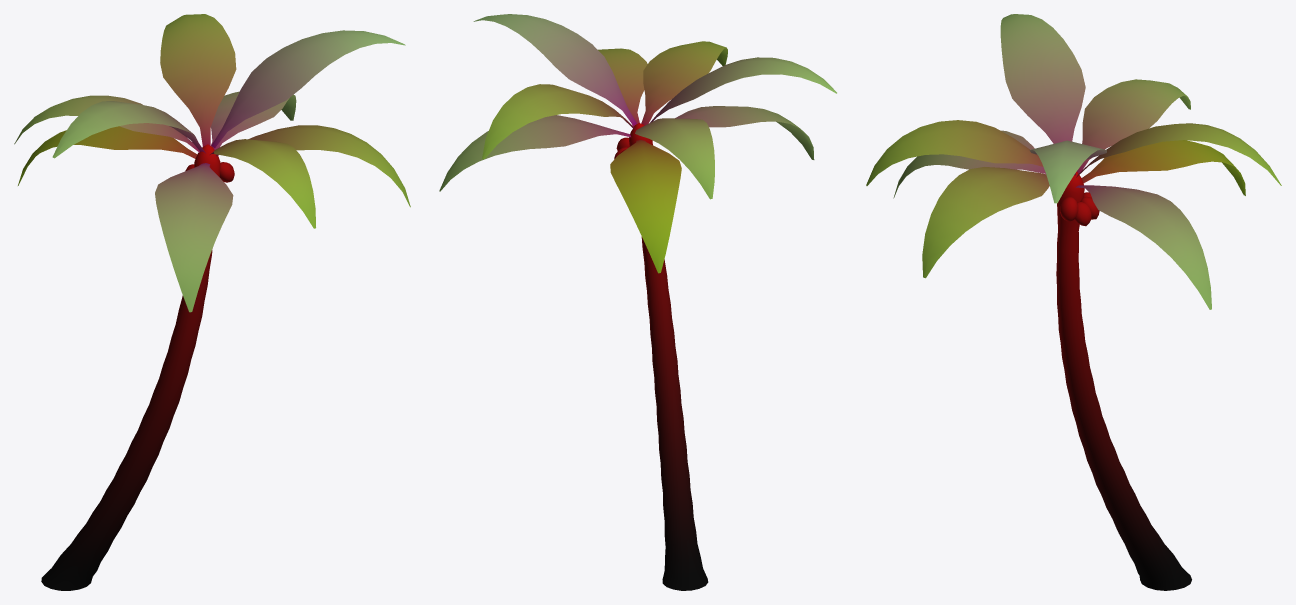
File: SM_Palm_02.glb
3 renders of one model, left to right at view 1: azimuth 30°, elevation 25°; view 2: azimuth 150°, elevation 25°; view 3: azimuth 270°, elevation 25°, orthographic. The views are drawn at different scales.
Visible parts, largest first — view 1: SM_Palm_02_LOD0; view 2: SM_Palm_02_LOD0; view 3: SM_Palm_02_LOD0.
Boxes of the visible parts, x1,y1,x2,y2 form: SM_Palm_02_LOD0: (14, 14, 410, 590); SM_Palm_02_LOD0: (439, 14, 836, 590); SM_Palm_02_LOD0: (866, 14, 1281, 590).
Size of what is drawn, in the model's own units: 5.22 by 7 by 4.87.
